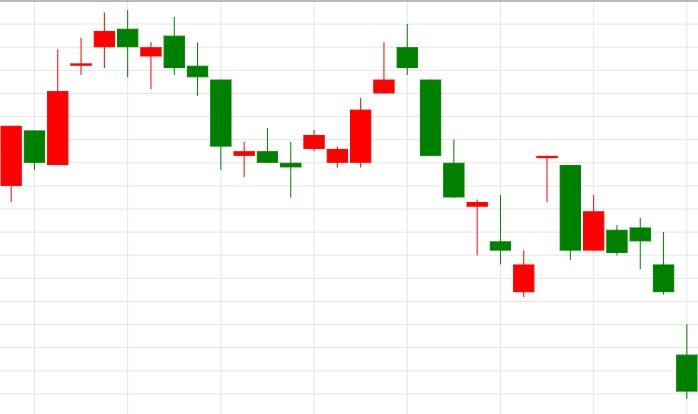bearish_engulfing_fall: (0, 9, 139, 201)
three_black_crows_fall: (326, 24, 465, 198)
